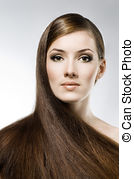face: (30, 7, 108, 106)
